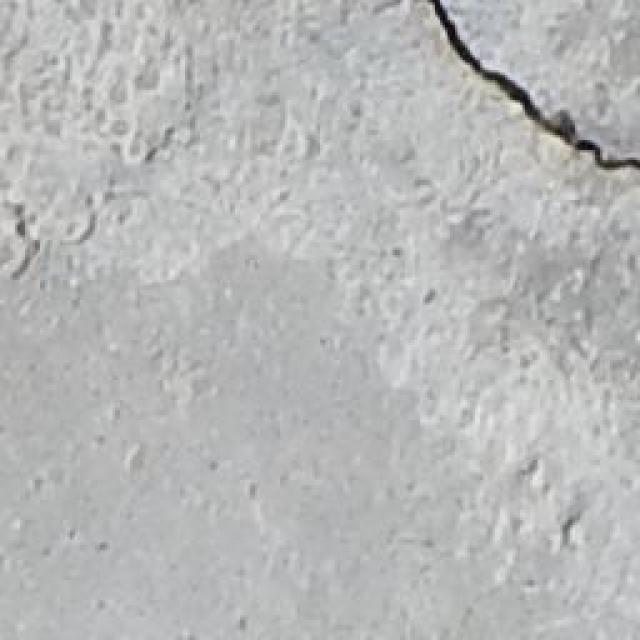concrete-crack: (427, 0, 639, 179)
